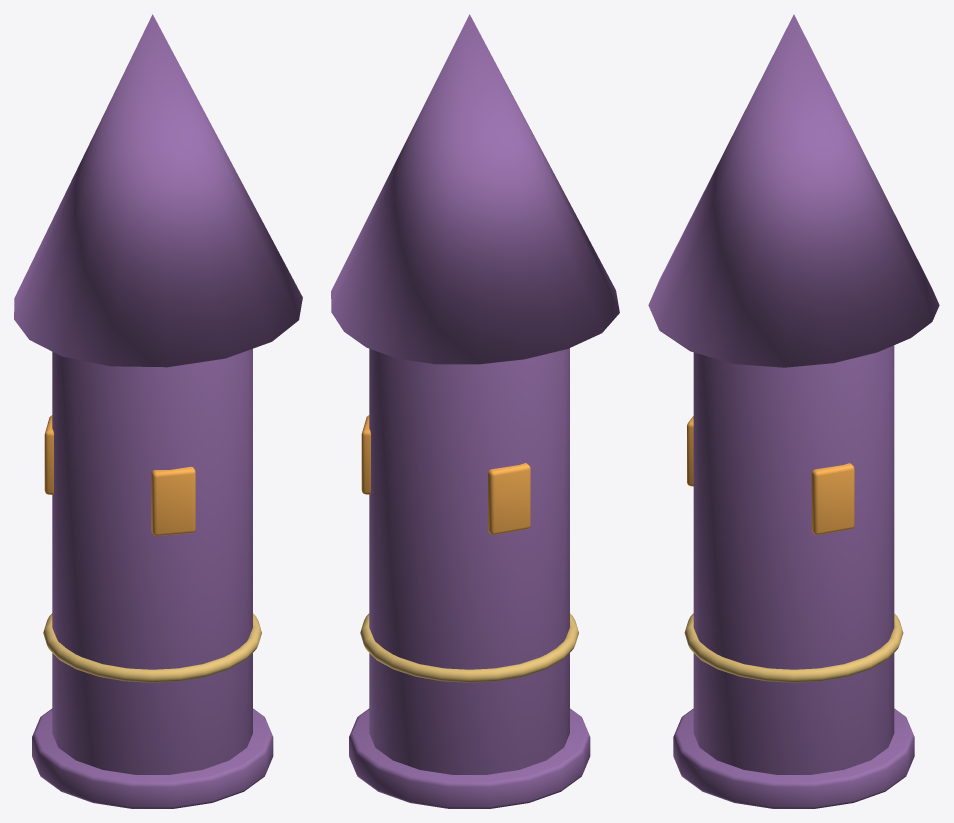
Rendered from WizardTower.fbx.
3 renders of one model, left to right at view 1: azimuth 30°, elevation 25°; view 2: azimuth 150°, elevation 25°; view 3: azimuth 270°, elevation 25°, orthographic.
Visible parts, largest first — view 1: WizardTower_Body, WizardTower_Roof, WizardTower_Windows, WizardTower_Bands; view 2: WizardTower_Body, WizardTower_Roof, WizardTower_Windows, WizardTower_Bands; view 3: WizardTower_Body, WizardTower_Roof, WizardTower_Bands, WizardTower_Windows.
Boxes of the visible parts, x1,y1,x2,y2 form: WizardTower_Body: (32, 349, 273, 808); WizardTower_Roof: (14, 14, 302, 367); WizardTower_Windows: (44, 415, 195, 535); WizardTower_Bands: (43, 613, 261, 682); WizardTower_Body: (349, 348, 590, 808); WizardTower_Roof: (331, 14, 619, 364); WizardTower_Windows: (361, 415, 530, 534); WizardTower_Bands: (360, 613, 578, 682); WizardTower_Body: (673, 345, 914, 808); WizardTower_Roof: (648, 14, 939, 367); WizardTower_Bands: (684, 613, 903, 682); WizardTower_Windows: (687, 416, 854, 534).
Size of the model in its own units: 294 by 820 by 290.
